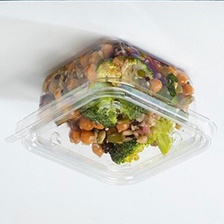plastic_box: (0, 30, 224, 195)
